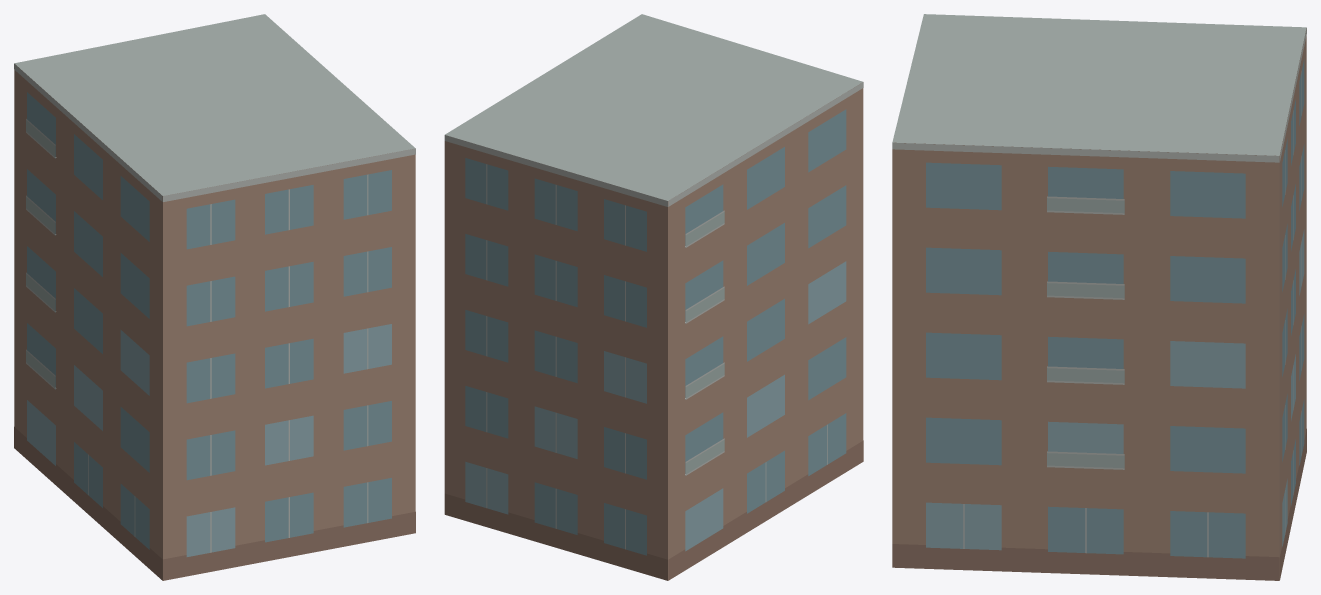
Rendered from survey-upis-32753473.glb.
3 renders of one model, left to right at view 1: azimuth 30°, elevation 25°; view 2: azimuth 150°, elevation 25°; view 3: azimuth 270°, elevation 25°, orthographic. The views are drawn at different scales.
Parts seen in each view (by area): view 1: survey-upis-32753473.tmp; view 2: survey-upis-32753473.tmp; view 3: survey-upis-32753473.tmp.
Part boxes in pixels (x1,y1,x2,y2): survey-upis-32753473.tmp: [14, 14, 415, 580]; survey-upis-32753473.tmp: [444, 14, 863, 580]; survey-upis-32753473.tmp: [892, 14, 1306, 580].
Bounding box in the file's own units: 11 × 15.35 × 13.58.
